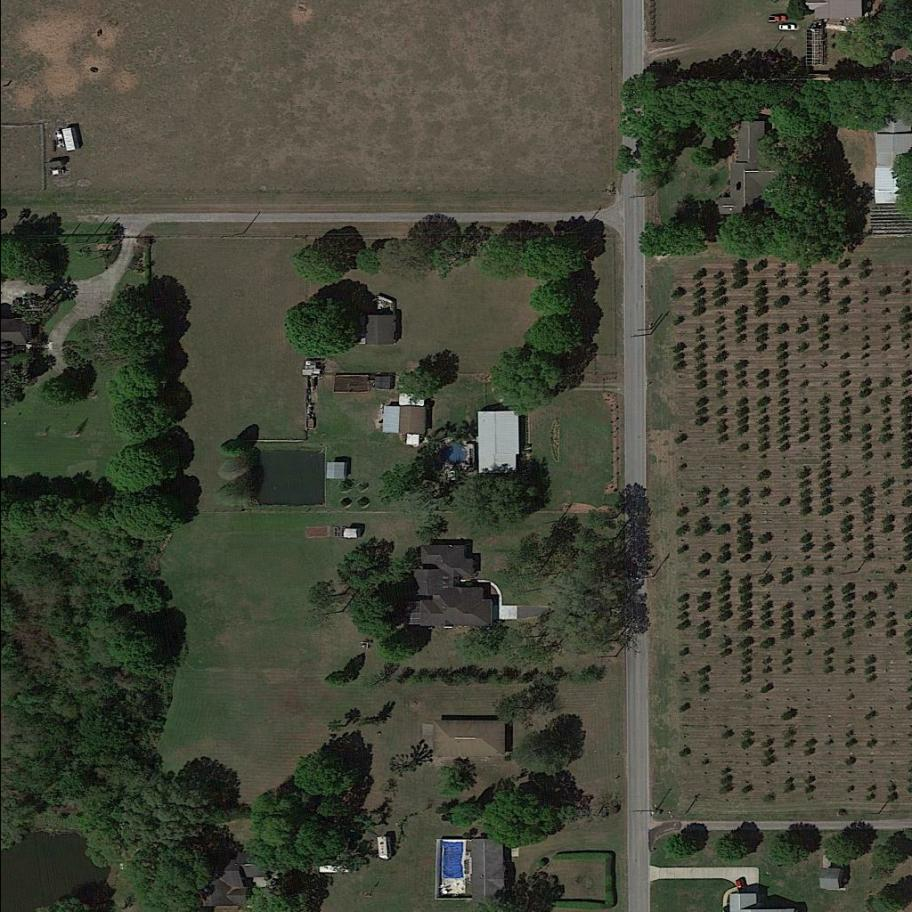small-vehicle: (778, 22, 799, 32), (770, 15, 788, 23), (736, 880, 746, 894)
